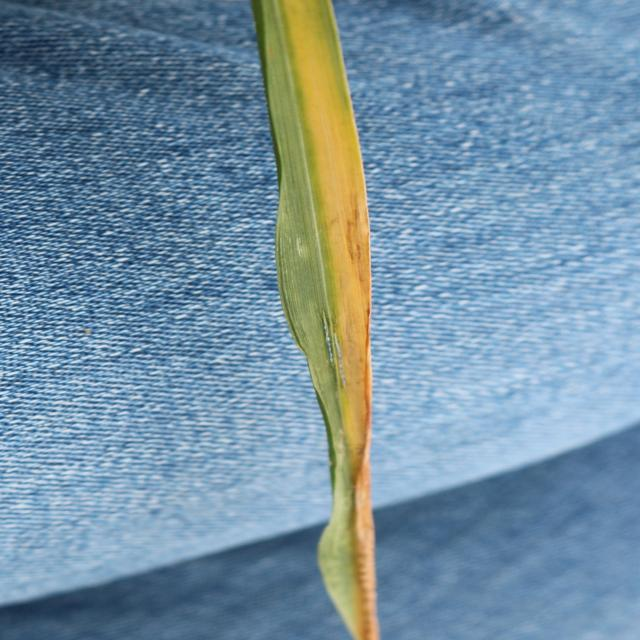Septoria: (271, 0, 360, 259), (336, 274, 372, 640)
